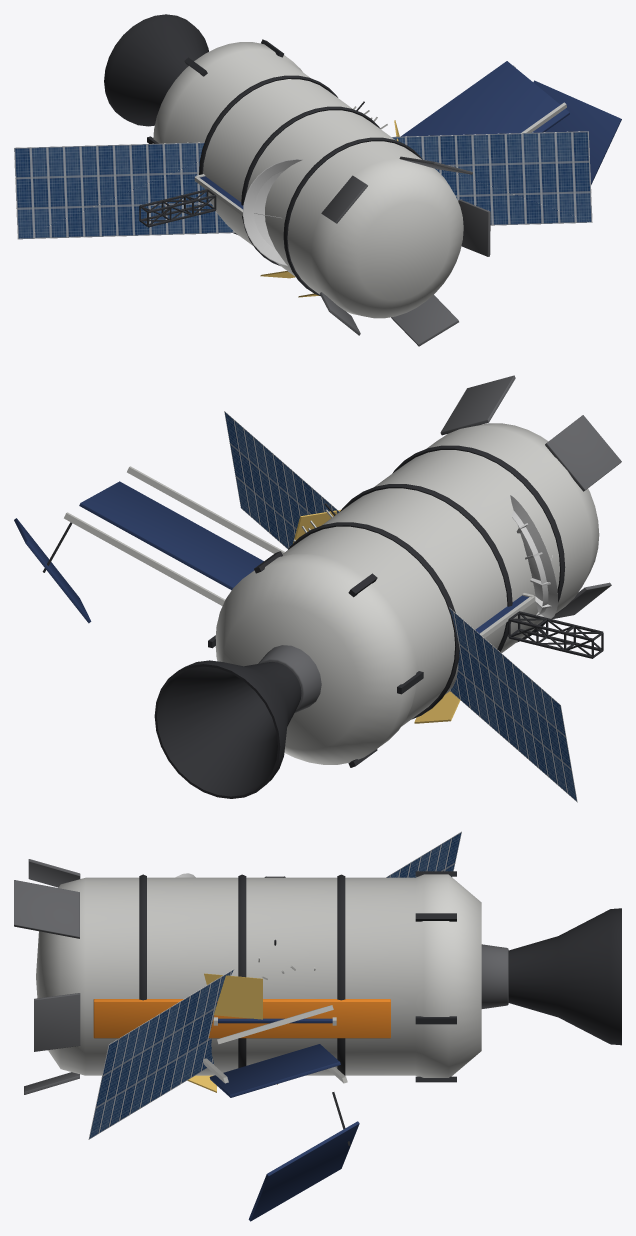
File: junk.glb
3 renders of one model, top to bottom at view 1: azimuth 30°, elevation 25°; view 2: azimuth 150°, elevation 25°; view 3: azimuth 270°, elevation 25°, orthographic. The views are drawn at different scales.
Parts seen in each view (by area): view 1: junk_stage, junk_sat, junk_panel; view 2: junk_stage, junk_sat, junk_panel; view 3: junk_stage, junk_sat, junk_panel.
Boxes of the visible parts, x1,y1,x2,y2 form: junk_stage: (104, 14, 490, 346); junk_sat: (14, 131, 592, 266); junk_panel: (139, 61, 621, 227); junk_stage: (154, 375, 621, 798); junk_sat: (224, 411, 577, 802); junk_panel: (14, 466, 603, 658); junk_stage: (14, 859, 621, 1094); junk_sat: (88, 831, 461, 1139); junk_panel: (203, 876, 359, 1221).
Size of the model in its own units: 8.66 by 3 by 7.37.
12 materials, 1 textured.
